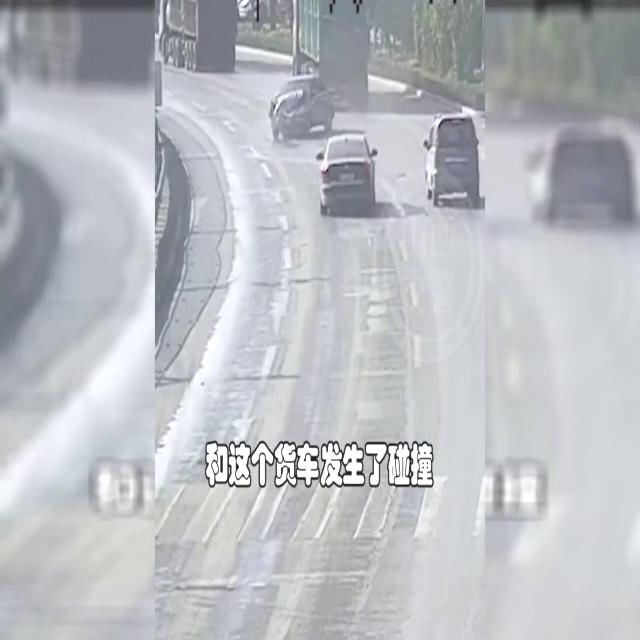accident: (268, 73, 342, 143)
